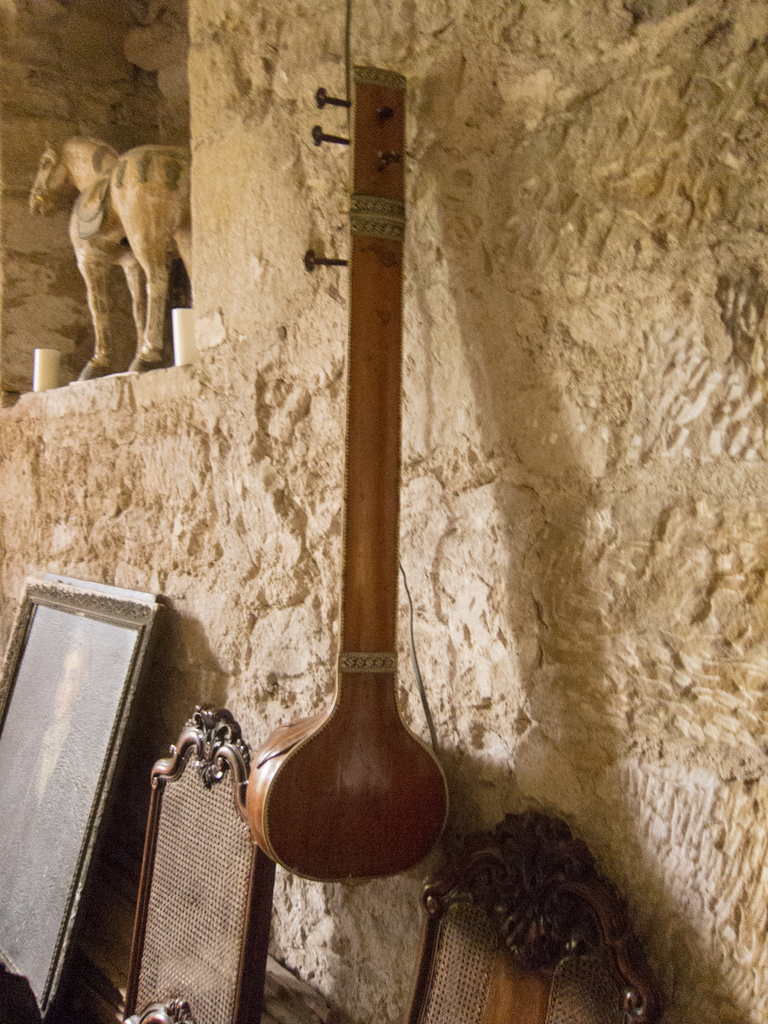Animal: (29, 131, 185, 385)
